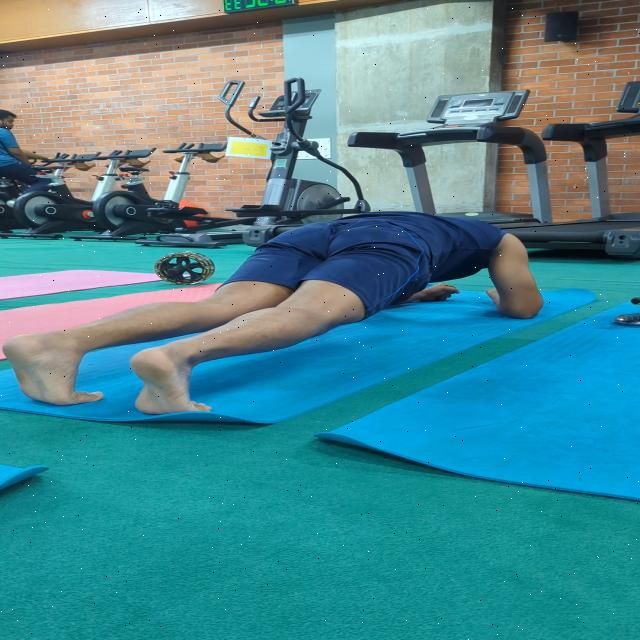Normal_Plunk: (0, 203, 551, 429)
